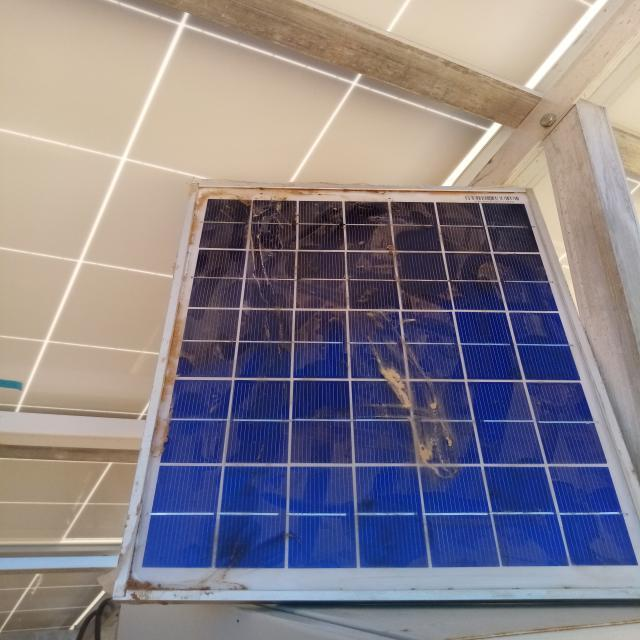faulty: (120, 184, 640, 596)
